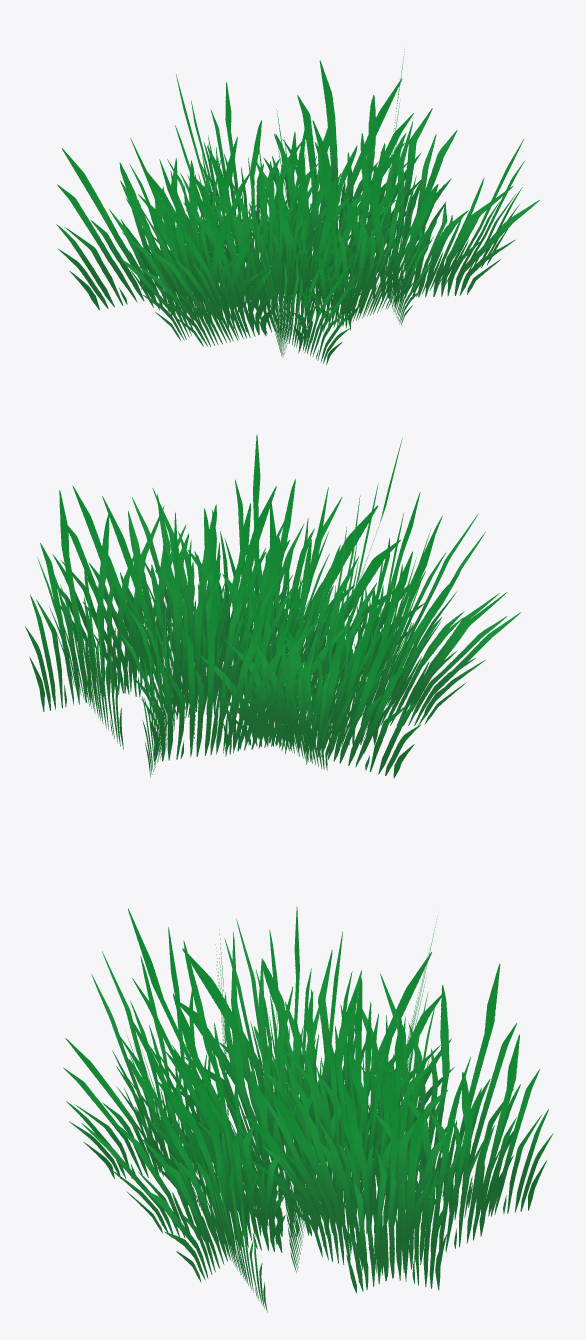
File: grass.fbx
The picture shows the model from 3 angles, top to bottom: view 1: azimuth 30°, elevation 25°; view 2: azimuth 150°, elevation 25°; view 3: azimuth 270°, elevation 25°; orthographic projection. The views are drawn at different scales.
Parts seen in each view (by area): view 1: PT_Grass_02_LOD0; view 2: PT_Grass_02_LOD0; view 3: PT_Grass_02_LOD0.
Part boxes in pixels (x1,y1,x2,y2): PT_Grass_02_LOD0: (56, 49, 539, 365); PT_Grass_02_LOD0: (25, 434, 520, 777); PT_Grass_02_LOD0: (63, 907, 553, 1312).
Size of what is drawn, in the model's own units: 124 by 68.42 by 99.38.
